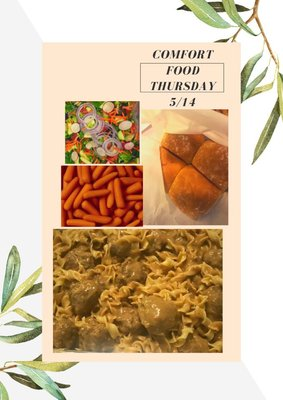pizza: (61, 164, 143, 228)
